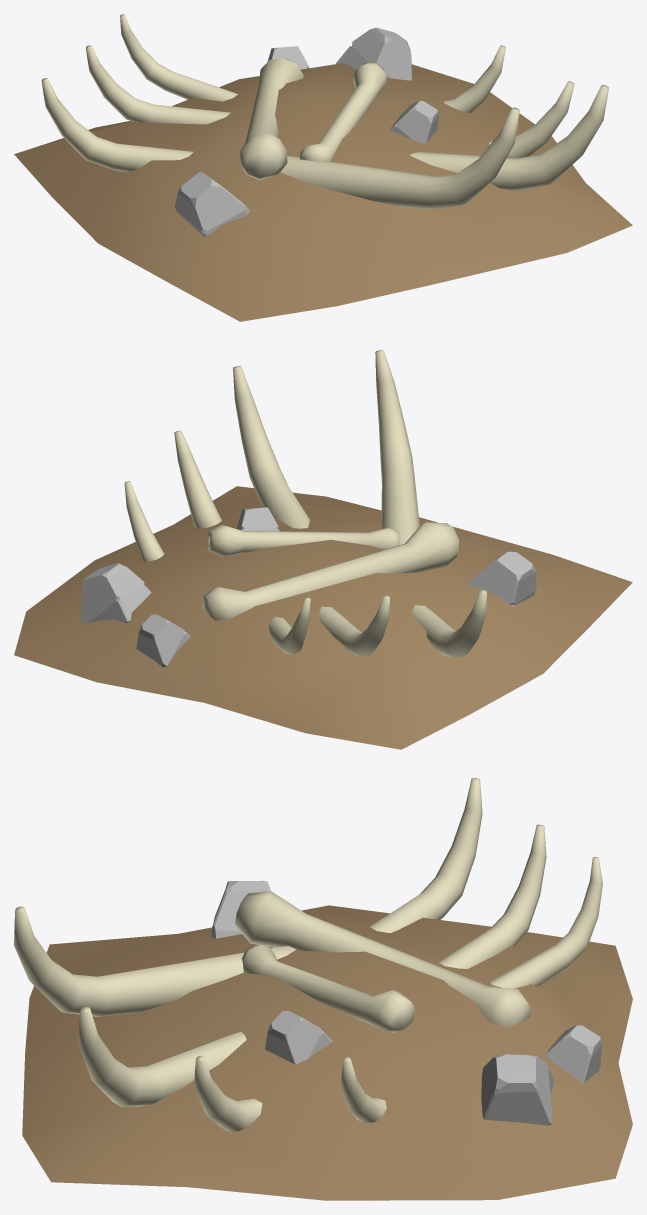
The model's file is BonesBox_10.fbx.
The picture shows the model from 3 angles, top to bottom: view 1: azimuth 30°, elevation 25°; view 2: azimuth 150°, elevation 25°; view 3: azimuth 270°, elevation 25°; orthographic projection. The views are drawn at different scales.
Parts seen in each view (by area): view 1: bones.009; view 2: bones.009; view 3: bones.009.
Boxes of the visible parts, x1=… form: bones.009: x1=14, y1=14, x2=632, y2=321; bones.009: x1=14, y1=350, x2=632, y2=749; bones.009: x1=14, y1=778, x2=632, y2=1200.
Size of the model in its own units: 428 by 143 by 411.
